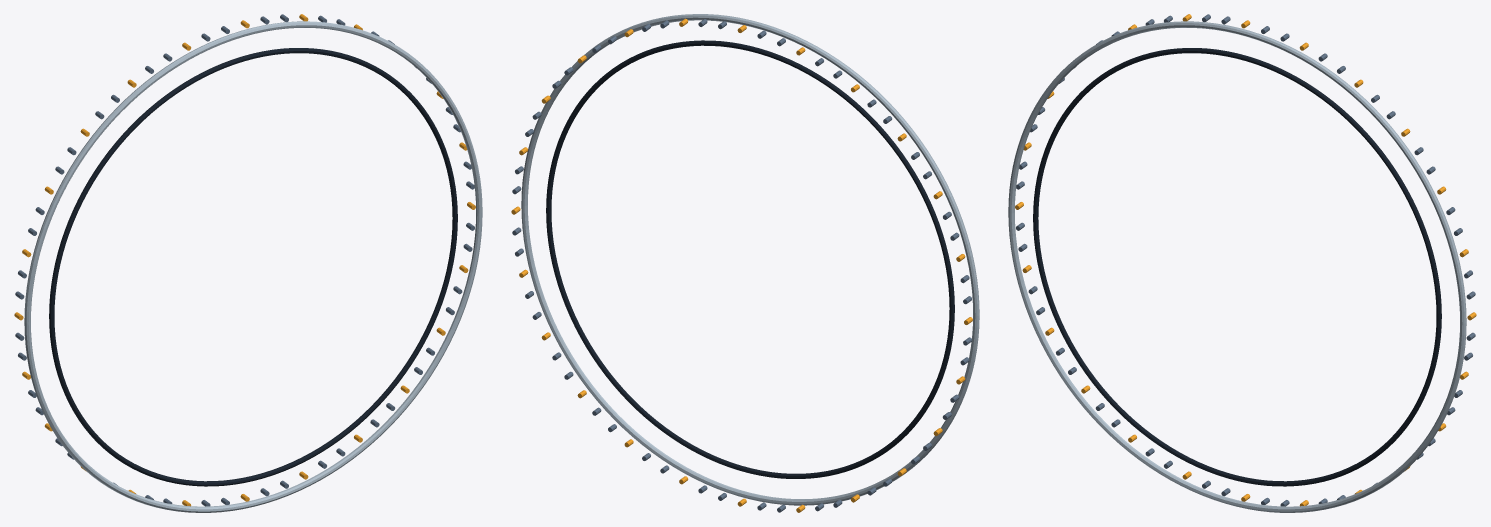
The model's file is 11_L87_HabitatPressureShellRing.fbx.
The picture shows the model from 3 angles, left to right: view 1: azimuth 30°, elevation 25°; view 2: azimuth 150°, elevation 25°; view 3: azimuth 330°, elevation 25°; orthographic projection.
Parts seen in each view (by area): view 1: L87_HabitatPressureShellRing_Part_0001, L87_HabitatPressureShellRing_Part_0000, L87_HabitatPressureShellRing_Part_0002, L87_HabitatPressureShellRing_Part_0004, L87_HabitatPressureShellRing_Part_0005, L87_HabitatPressureShellRing_Part_0006; view 2: L87_HabitatPressureShellRing_Part_0001, L87_HabitatPressureShellRing_Part_0000, L87_HabitatPressureShellRing_Part_0002, L87_HabitatPressureShellRing_Part_0004, L87_HabitatPressureShellRing_Part_0005, L87_HabitatPressureShellRing_Part_0006; view 3: L87_HabitatPressureShellRing_Part_0001, L87_HabitatPressureShellRing_Part_0000, L87_HabitatPressureShellRing_Part_0004, L87_HabitatPressureShellRing_Part_0002, L87_HabitatPressureShellRing_Part_0005.
Boxes of the visible parts, <box> form: L87_HabitatPressureShellRing_Part_0001: <box>24,21,482,512</box>; L87_HabitatPressureShellRing_Part_0000: <box>49,48,457,486</box>; L87_HabitatPressureShellRing_Part_0002: <box>14,14,475,506</box>; L87_HabitatPressureShellRing_Part_0004: <box>95,14,474,189</box>; L87_HabitatPressureShellRing_Part_0005: <box>15,147,229,506</box>; L87_HabitatPressureShellRing_Part_0006: <box>260,222,474,496</box>; L87_HabitatPressureShellRing_Part_0001: <box>521,14,979,505</box>; L87_HabitatPressureShellRing_Part_0000: <box>546,40,954,478</box>; L87_HabitatPressureShellRing_Part_0002: <box>511,18,972,512</box>; L87_HabitatPressureShellRing_Part_0004: <box>512,19,892,194</box>; L87_HabitatPressureShellRing_Part_0005: <box>757,152,972,512</box>; L87_HabitatPressureShellRing_Part_0006: <box>512,227,726,500</box>; L87_HabitatPressureShellRing_Part_0001: <box>1008,21,1466,512</box>; L87_HabitatPressureShellRing_Part_0000: <box>1033,48,1441,486</box>; L87_HabitatPressureShellRing_Part_0004: <box>1096,14,1475,299</box>; L87_HabitatPressureShellRing_Part_0002: <box>1015,14,1476,479</box>; L87_HabitatPressureShellRing_Part_0005: <box>1016,66,1230,496</box>.
Bounding box in the file's own units: 1118 × 1118 × 51.89.
